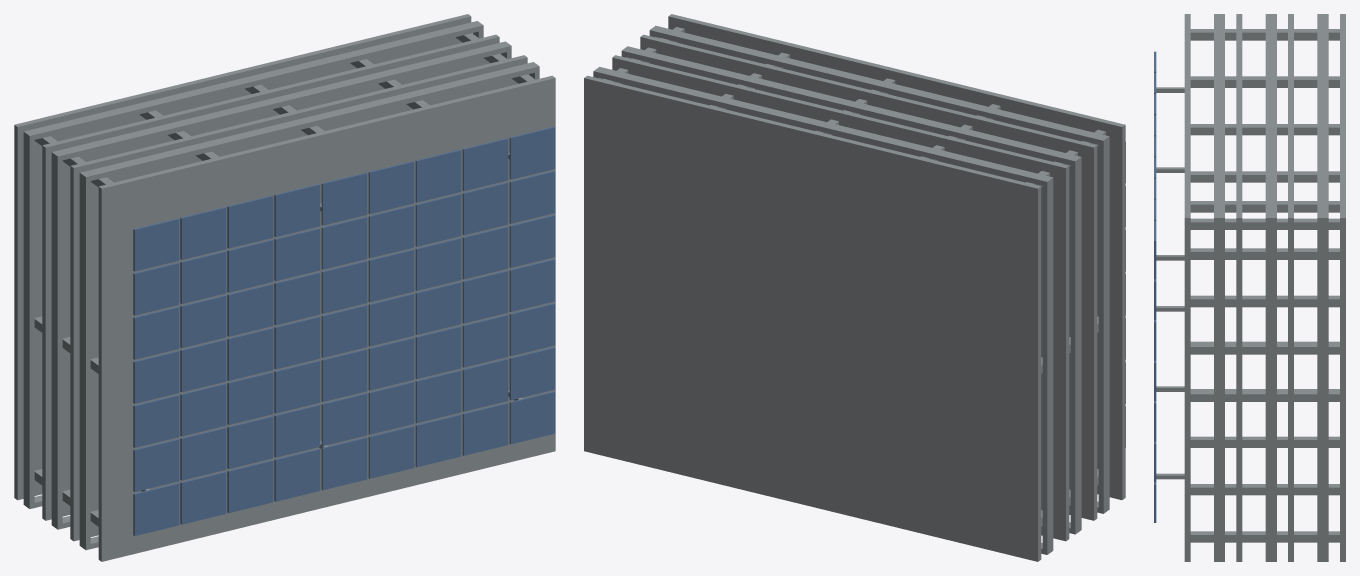
The model's file is modelo.obj.
The picture shows the model from 3 angles, left to right: view 1: azimuth 30°, elevation 25°; view 2: azimuth 150°, elevation 25°; view 3: azimuth 270°, elevation 25°; orthographic projection. The views are drawn at different scales.
Visible parts, largest first — view 1: losa_3, losa_1, losa_2, losa_0, antepecho_posterior_24, antepecho_posterior_20, antepecho_posterior_28, antepecho_lateral_25, antepecho_lateral_21, antepecho_lateral_29, panel_cubierta_94, panel_cubierta_42 (+61 smaller); view 2: losa_0, losa_1, losa_3, losa_2, antepecho_posterior_24, antepecho_posterior_28, antepecho_posterior_20, antepecho_lateral_21, antepecho_lateral_25, antepecho_lateral_29; view 3: antepecho_lateral_26, antepecho_lateral_22, losa_2, losa_3, antepecho_lateral_30, losa_0, losa_1, antepecho_posterior_20, antepecho_posterior_24, antepecho_posterior_28, columna_11, columna_5 (+12 smaller).
Part boxes in pixels (x1,y1,x2,y2): losa_3: (98, 75, 555, 561); losa_1: (42, 34, 499, 520); losa_2: (70, 55, 527, 541); losa_0: (14, 14, 471, 500); antepecho_posterior_24: (51, 41, 511, 161); antepecho_posterior_20: (23, 21, 483, 140); antepecho_posterior_28: (79, 62, 539, 181); antepecho_lateral_25: (51, 151, 62, 524); antepecho_lateral_21: (23, 133, 34, 508); antepecho_lateral_29: (79, 173, 90, 550); panel_cubierta_94: (509, 347, 555, 400); panel_cubierta_42: (133, 262, 179, 315); losa_0: (584, 75, 1041, 561); losa_1: (612, 55, 1069, 541); losa_3: (668, 14, 1125, 499); losa_2: (640, 34, 1097, 520); antepecho_posterior_24: (621, 46, 1081, 166); antepecho_posterior_28: (649, 26, 1109, 145); antepecho_posterior_20: (593, 66, 1053, 186); antepecho_lateral_21: (1042, 176, 1053, 554); antepecho_lateral_25: (1070, 156, 1081, 533); antepecho_lateral_29: (1098, 135, 1109, 513); antepecho_lateral_26: (1265, 216, 1276, 561); antepecho_lateral_22: (1317, 216, 1328, 561); losa_2: (1236, 14, 1242, 561); losa_3: (1184, 14, 1190, 561); antepecho_lateral_30: (1214, 216, 1224, 561); losa_0: (1340, 14, 1345, 561); losa_1: (1288, 14, 1293, 561); antepecho_posterior_20: (1317, 14, 1328, 222); antepecho_posterior_24: (1265, 14, 1276, 222); antepecho_posterior_28: (1214, 14, 1224, 222); columna_11: (1190, 295, 1339, 307); columna_5: (1190, 201, 1339, 212).
Bounding box in the file's own units: 28 × 22 × 11.12.
